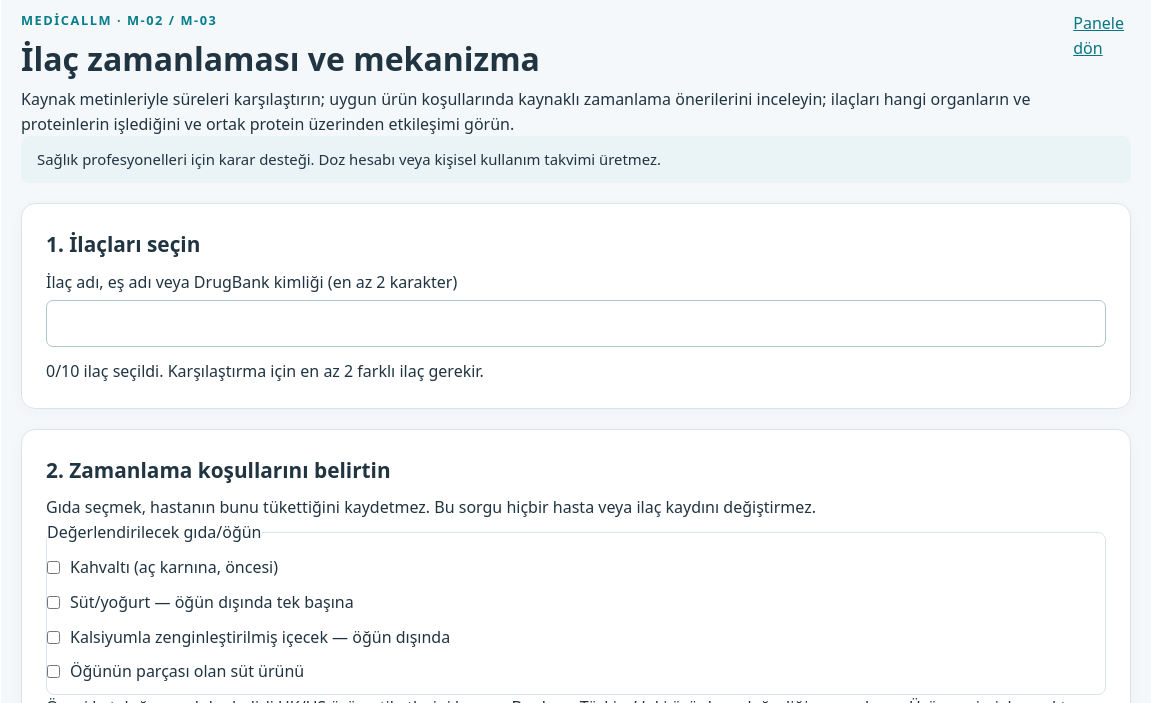
Test: audit fixes › N2: names the subject drug, independent of selection order
Type "Su" into the field labelled "İlaç adı, eş adı veya DrugBank kimliği (en az 2 karakter)" at (576, 324), box [46,300,1106,347]
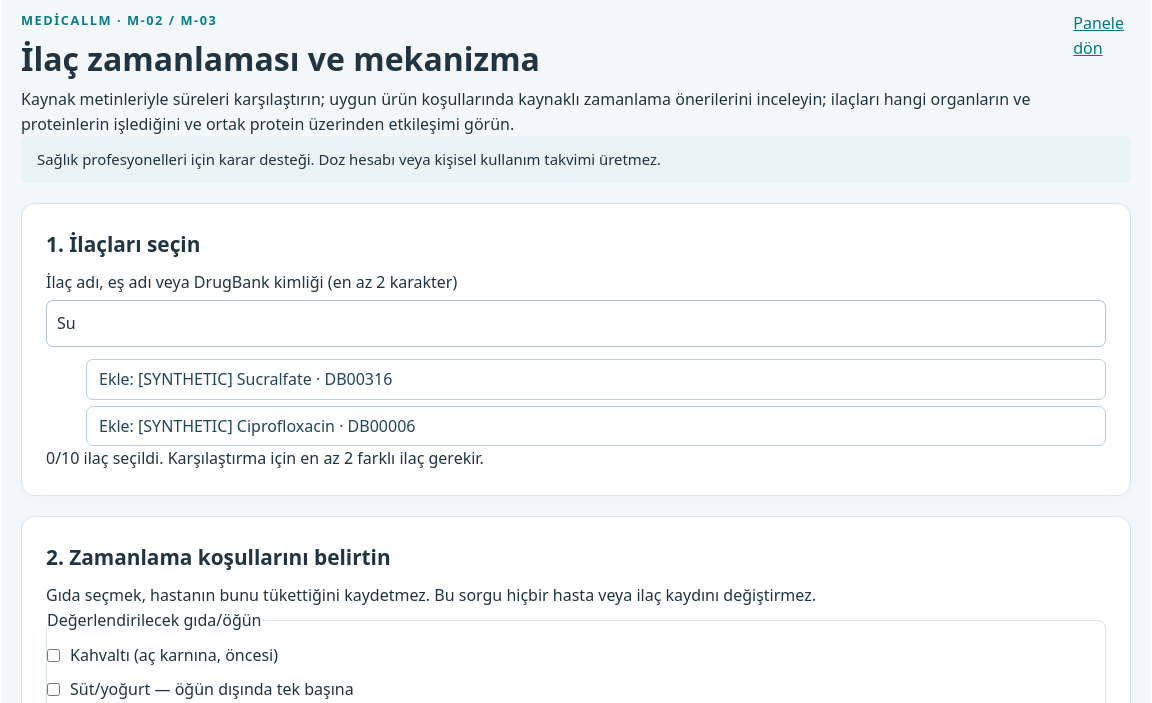
Click the button "Ekle: [SYNTHETIC] Sucralfate · DB00316" at (119, 379), box [86,359,1106,400]
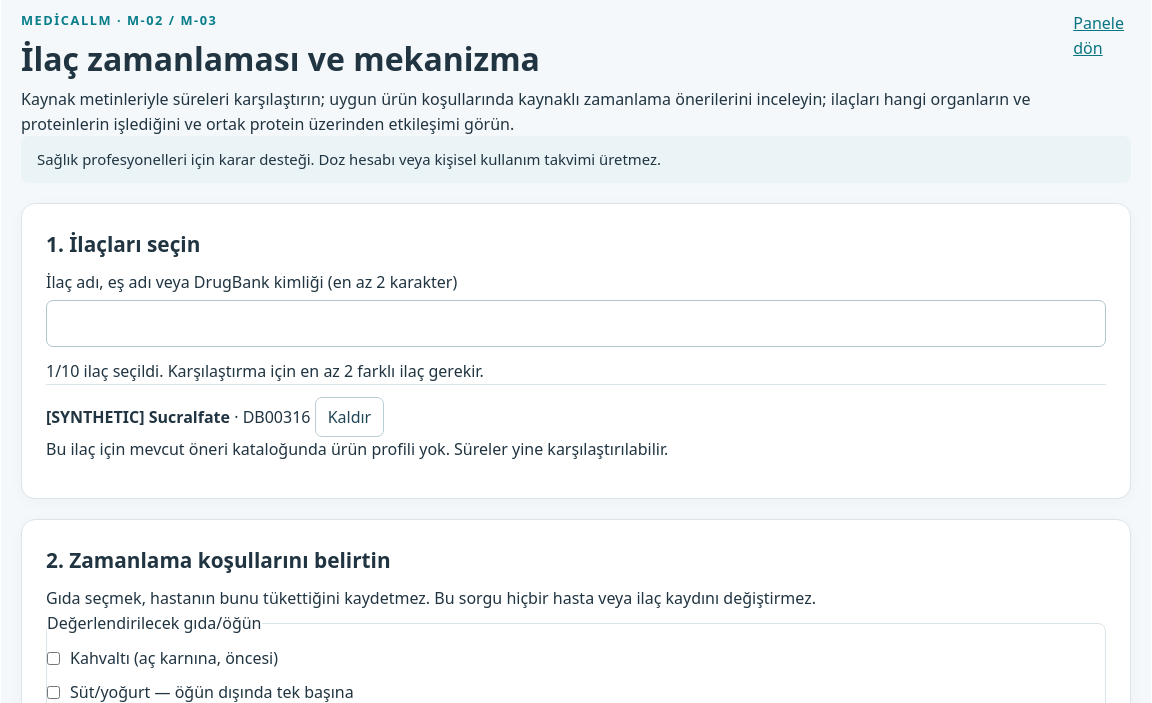
Type "Ci" into the field labelled "İlaç adı, eş adı veya DrugBank kimliği (en az 2 karakter)" at (576, 324), box [46,300,1106,347]
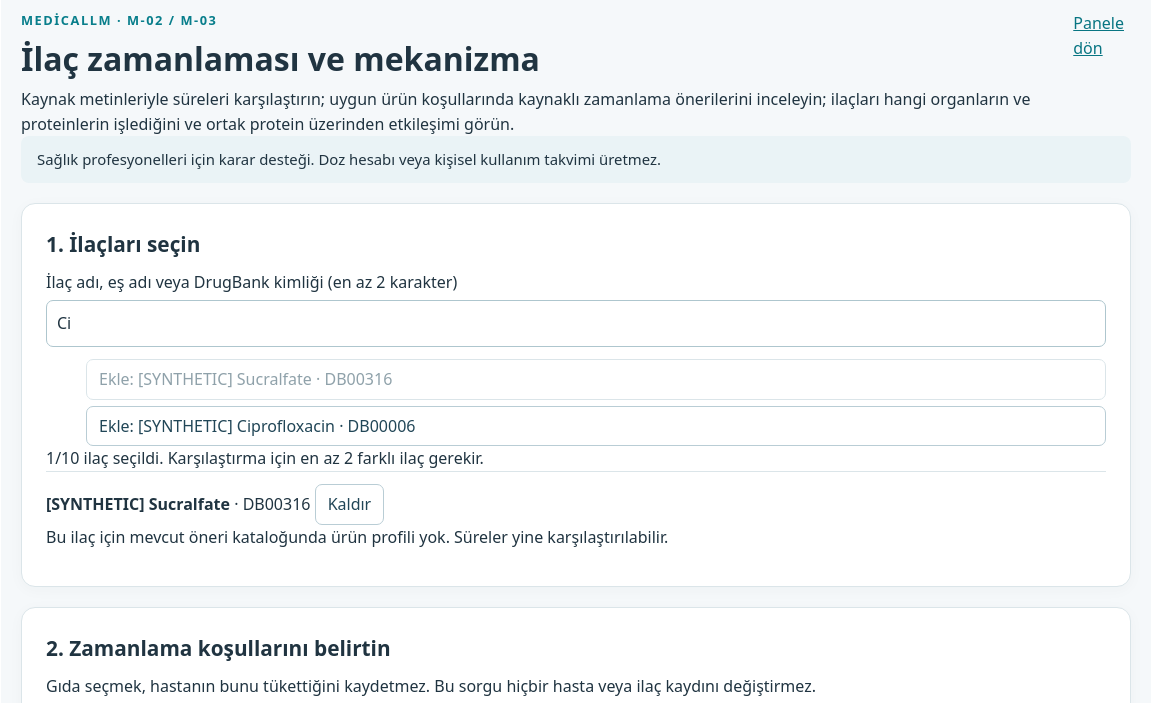
Click the button "Ekle: [SYNTHETIC] Ciprofloxacin · DB00006" at (119, 426), box [86,406,1106,446]
(page scrolled)
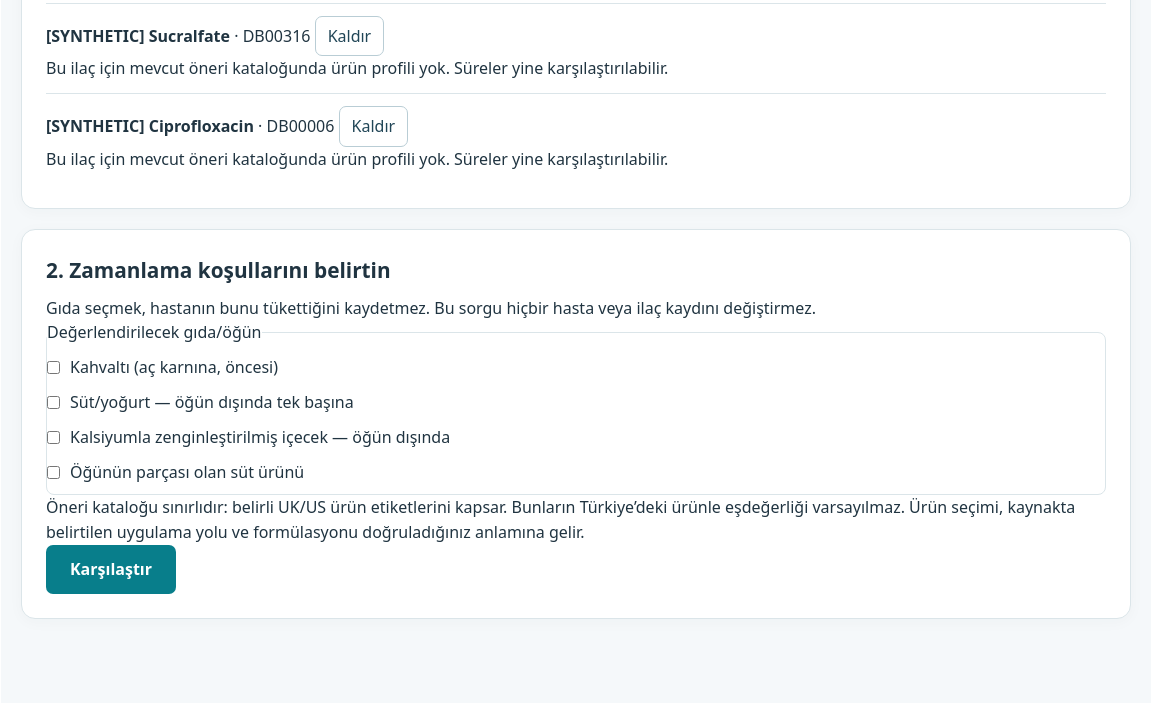
Click the button "Karşılaştır" at (111, 569), box [46,545,176,594]
(page scrolled)
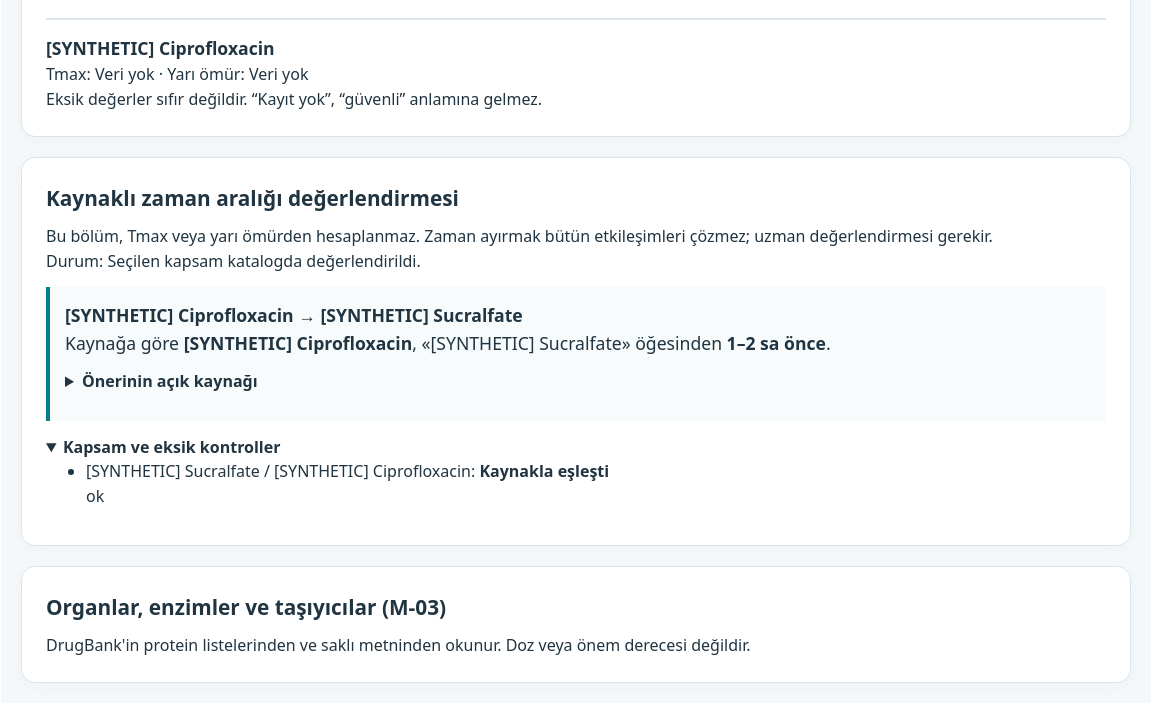
expect the element with test id "advice-interval" shows "[SYNTHETIC] Ciprofloxacin": met, box [184,331,412,355]
expect the element with test id "advice-interval" shows "«[SYNTHETIC] Sucralfate» öğesinden": met, box [65,331,831,355]
expect the element with test id "advice-interval" shows "1–2 sa önce": met, box [65,331,831,355]
